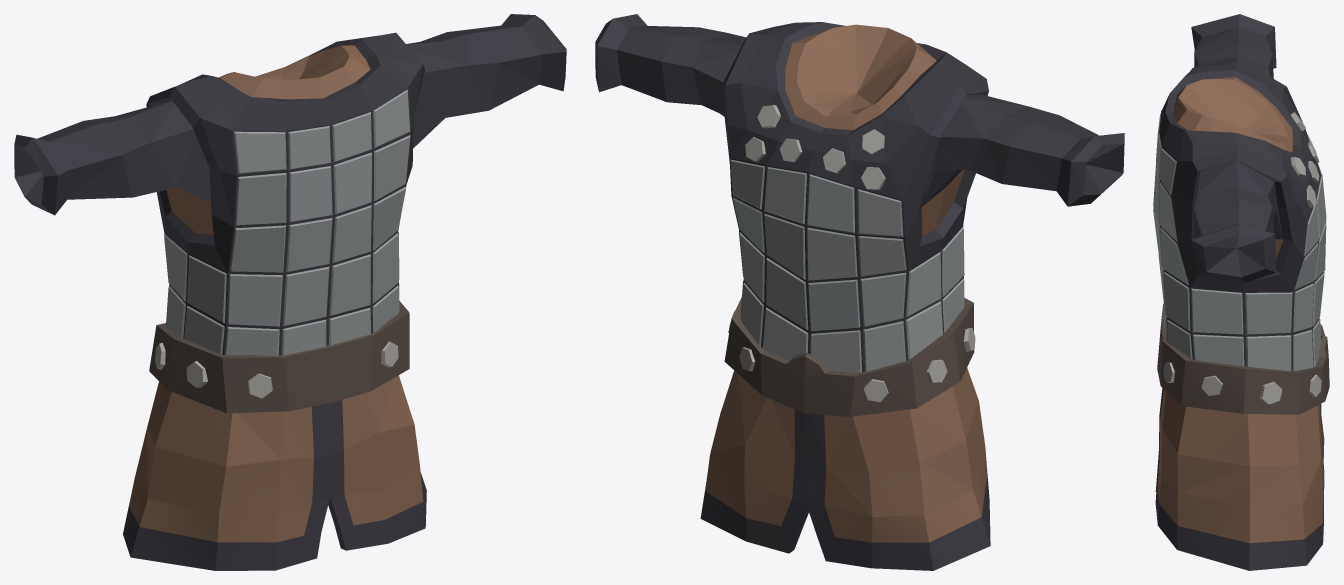
Rendered from armorSplintVestDisplay.fbx.
3 views of the same model, side by side, from view 1: azimuth 30°, elevation 25°; view 2: azimuth 150°, elevation 25°; view 3: azimuth 270°, elevation 25° (orthographic). The views are drawn at different scales.
Parts seen in each view (by area): view 1: armorSplintVestDisplay; view 2: armorSplintVestDisplay; view 3: armorSplintVestDisplay.
Part boxes in pixels (x1,y1,x2,y2): armorSplintVestDisplay: (14, 14, 566, 570); armorSplintVestDisplay: (595, 14, 1124, 570); armorSplintVestDisplay: (1153, 14, 1329, 570).
Size of the model in its own units: 1.85 by 1.66 by 0.6301.
